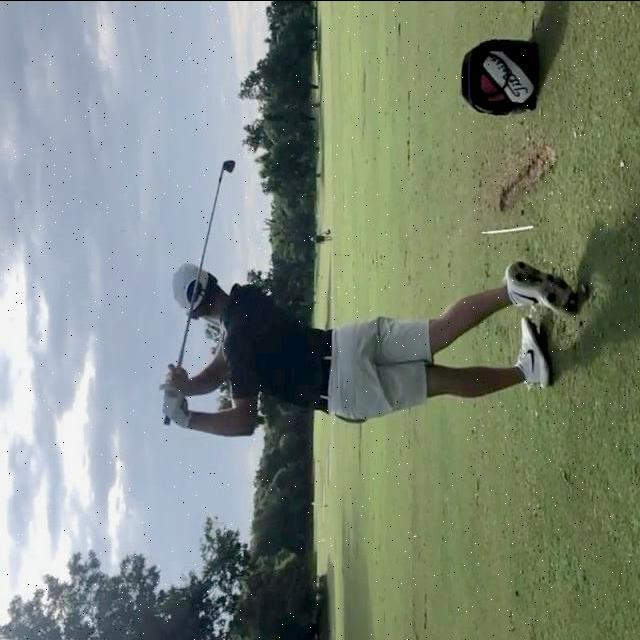golf club-handle: (162, 159, 235, 426)
golf club-head: (223, 159, 235, 172)
